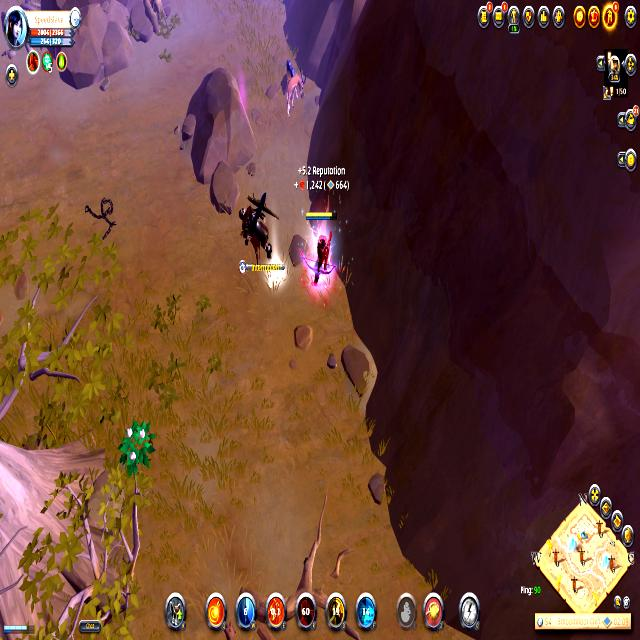hide: (117, 414, 156, 480)
ore: (284, 66, 307, 121)
player: (279, 58, 298, 89)
red: (303, 207, 337, 294), (1, 618, 32, 639)
